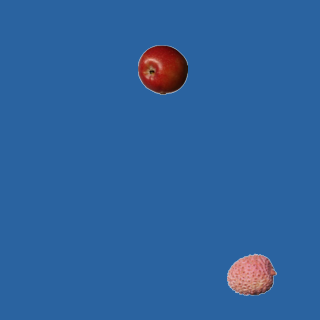Apple Braeburn: (137, 44, 187, 94)
Lychee: (226, 249, 276, 299)
